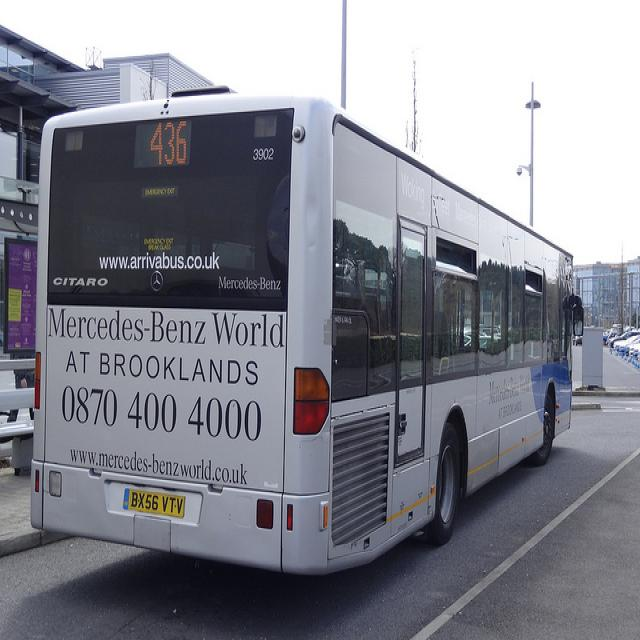Vehicle: (31, 97, 588, 573), (613, 332, 640, 354), (625, 342, 640, 358), (602, 330, 613, 345), (632, 344, 640, 362)
